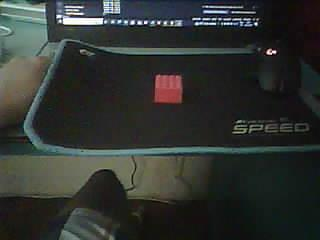lego: (154, 74, 183, 103)
